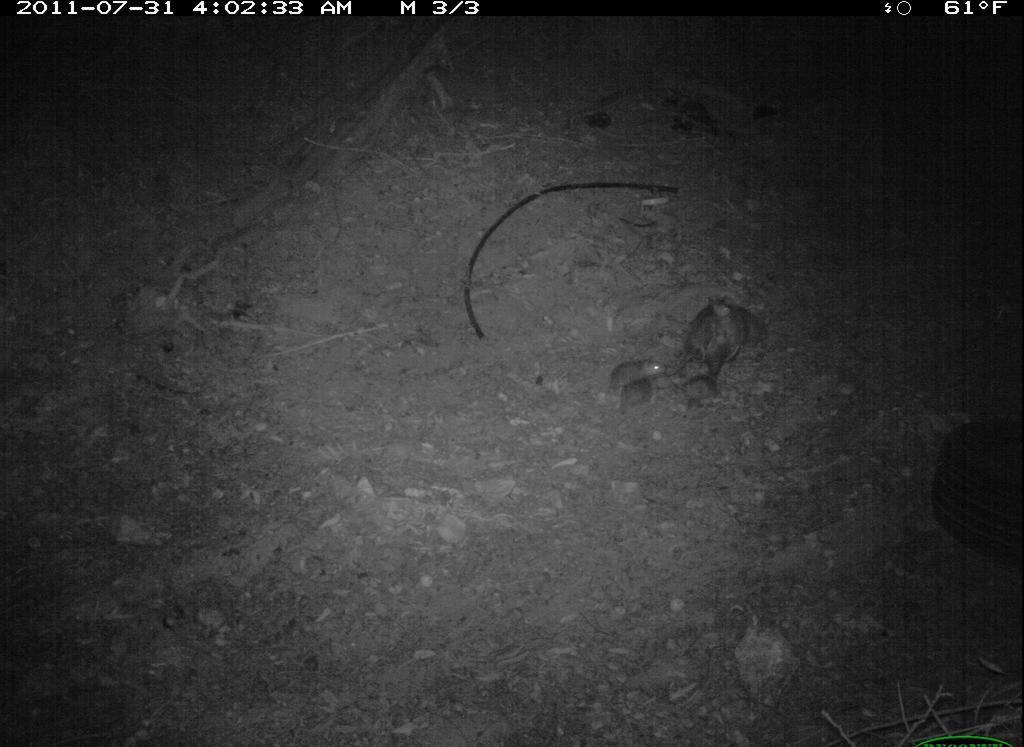opossum: (674, 291, 771, 391), (603, 356, 671, 408)
